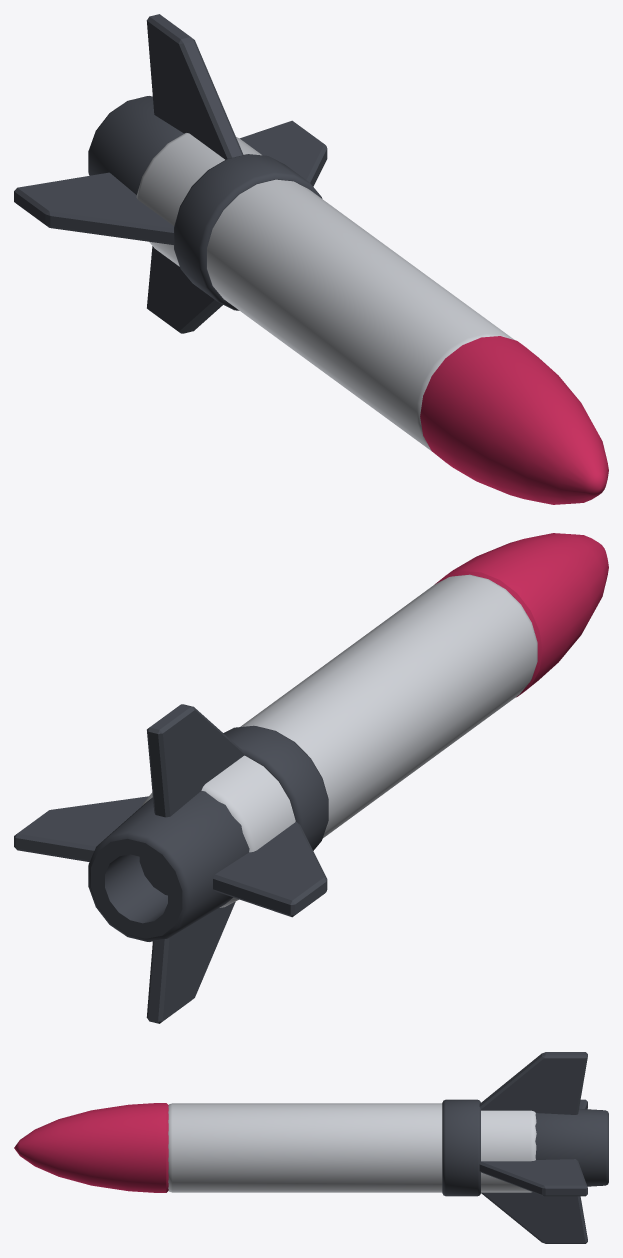
File: w_pj_rigmissile.glb
3 views of the same model, one above another, from view 1: azimuth 30°, elevation 25°; view 2: azimuth 150°, elevation 25°; view 3: azimuth 270°, elevation 25° (orthographic). The views are drawn at different scales.
Parts seen in each view (by area): view 1: body_wzA__body__pc9ccd2, tail_wzB__frame__p444851, nose_wzN__accent__pc42a5a; view 2: tail_wzB__frame__p444851, body_wzA__body__pc9ccd2, nose_wzN__accent__pc42a5a; view 3: body_wzA__body__pc9ccd2, tail_wzB__frame__p444851, nose_wzN__accent__pc42a5a.
Boxes of the visible parts, <box> form: body_wzA__body__pc9ccd2: <box>136,133,514,450</box>; tail_wzB__frame__p444851: <box>14,14,327,333</box>; nose_wzN__accent__pc42a5a: <box>420,336,608,504</box>; tail_wzB__frame__p444851: <box>14,704,328,1023</box>; body_wzA__body__pc9ccd2: <box>142,574,537,907</box>; nose_wzN__accent__pc42a5a: <box>434,533,608,697</box>; body_wzA__body__pc9ccd2: <box>168,1103,536,1192</box>; tail_wzB__frame__p444851: <box>442,1052,608,1243</box>; nose_wzN__accent__pc42a5a: <box>14,1103,168,1192</box>.
Bounding box in the file's own units: 0.14 × 0.14 × 0.4.
